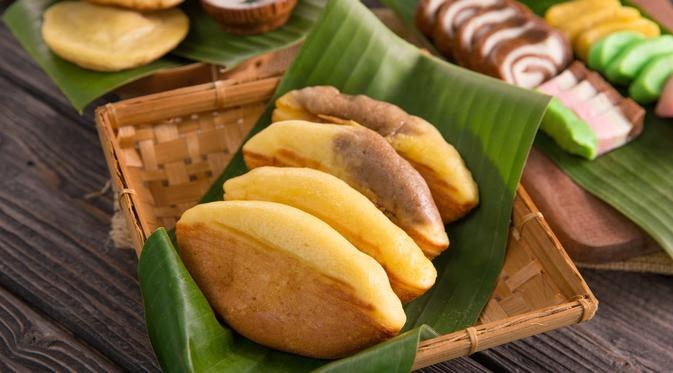pukis: (156, 183, 403, 373)
